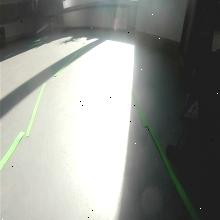crosswalk: (180, 94, 206, 125)
